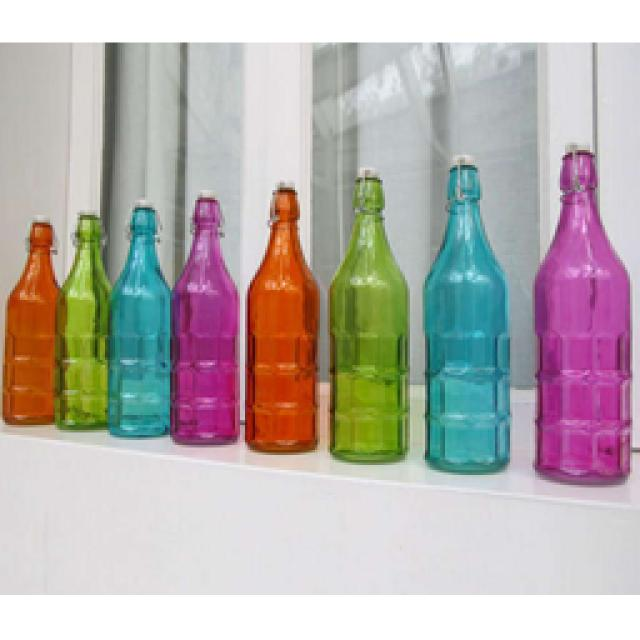glass_beverage_bottles: (538, 148, 632, 480), (428, 162, 518, 470), (332, 175, 412, 465), (245, 185, 317, 457), (173, 198, 237, 440)
